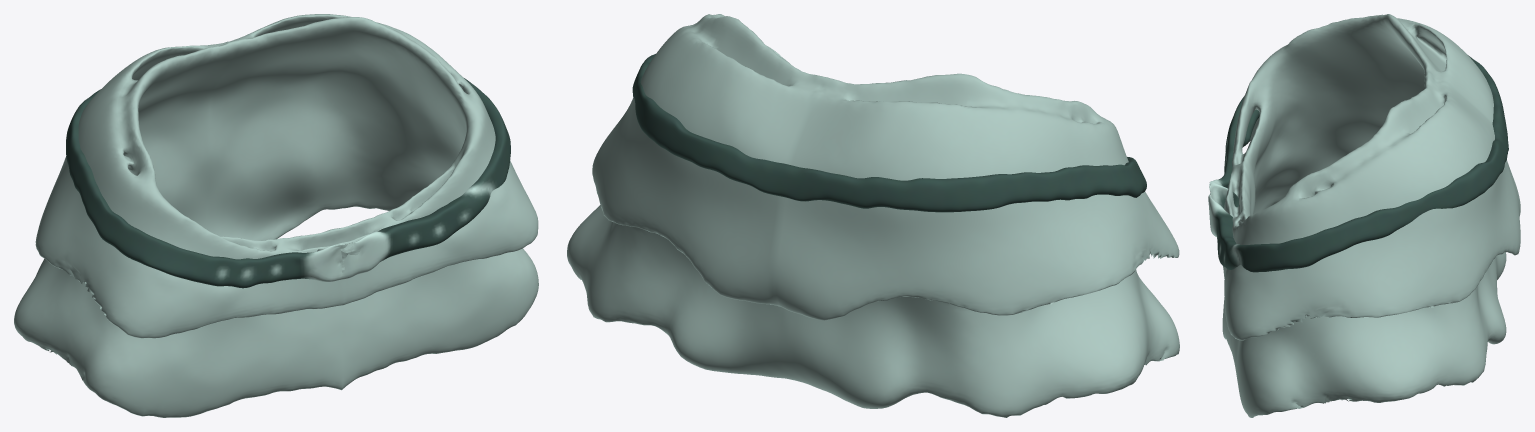
Rendered from greenPreppy-bottom.fbx.
The picture shows the model from 3 angles, left to right: view 1: azimuth 30°, elevation 25°; view 2: azimuth 150°, elevation 25°; view 3: azimuth 270°, elevation 25°; orthographic projection. The views are drawn at different scales.
Parts seen in each view (by area): view 1: skirt1, belt1; view 2: skirt1, belt1; view 3: skirt1, belt1.
Boxes of the visible parts, box(x1,y1,x2,y2) form: skirt1: box(14, 14, 538, 417); belt1: box(66, 78, 510, 288); skirt1: box(567, 14, 1179, 417); belt1: box(632, 54, 1146, 212); skirt1: box(1222, 14, 1520, 417); belt1: box(1208, 55, 1508, 272).
Bounding box in the file's own units: 2.15 × 1.23 × 1.26.
